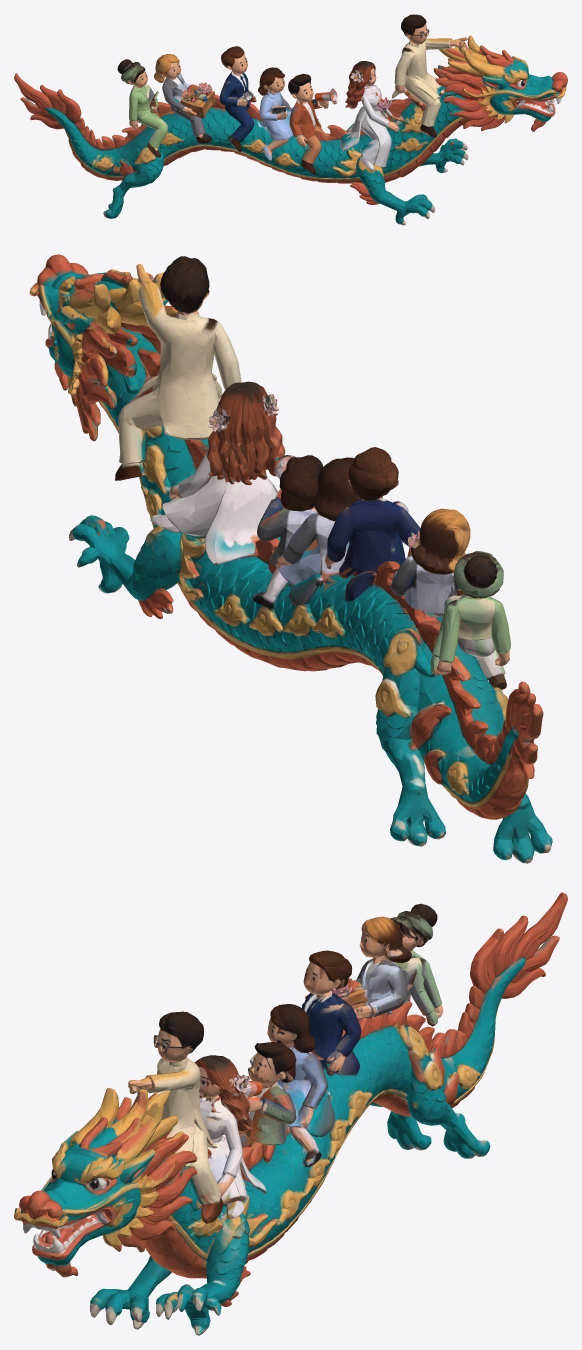
File: rong-bay-doi-bizon.glb
3 views of the same model, one above another, from view 1: azimuth 30°, elevation 25°; view 2: azimuth 150°, elevation 25°; view 3: azimuth 270°, elevation 25° (orthographic). The views are drawn at different scales.
Visible parts, largest first — view 1: output_unwrapped; view 2: output_unwrapped; view 3: output_unwrapped.
Boxes of the visible parts, left/top/right/bottom form: output_unwrapped: left=14, top=14, right=567, bottom=225; output_unwrapped: left=29, top=254, right=552, bottom=863; output_unwrapped: left=14, top=892, right=567, bottom=1335.
Bounding box in the file's own units: 1.9 × 0.8802 × 1.32.
1 material, 1 textured.
